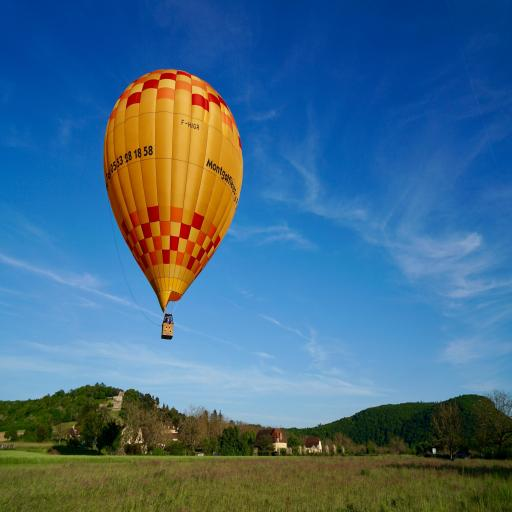hot air ballon: (101, 66, 245, 342)
